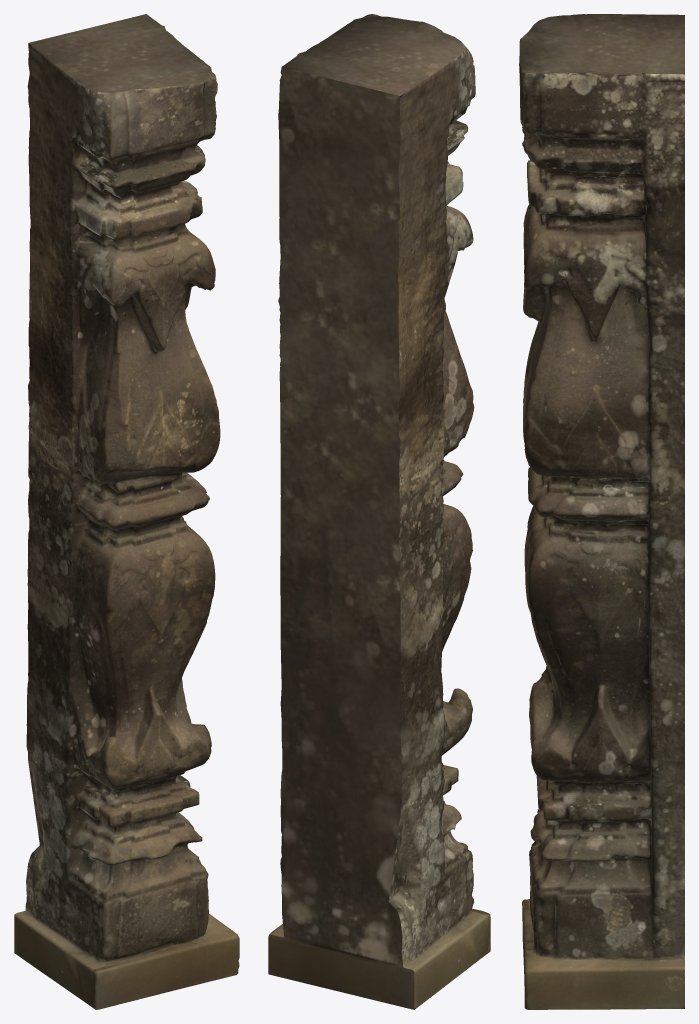
File: MysonMuseum_trucuaD2_final.glb
3 renders of one model, left to right at view 1: azimuth 30°, elevation 25°; view 2: azimuth 150°, elevation 25°; view 3: azimuth 270°, elevation 25°, orthographic. The views are drawn at different scales.
Size of the model in its own units: 0.4023 by 2.36 by 0.3814.
Materials: 1 (1 with a texture image).
